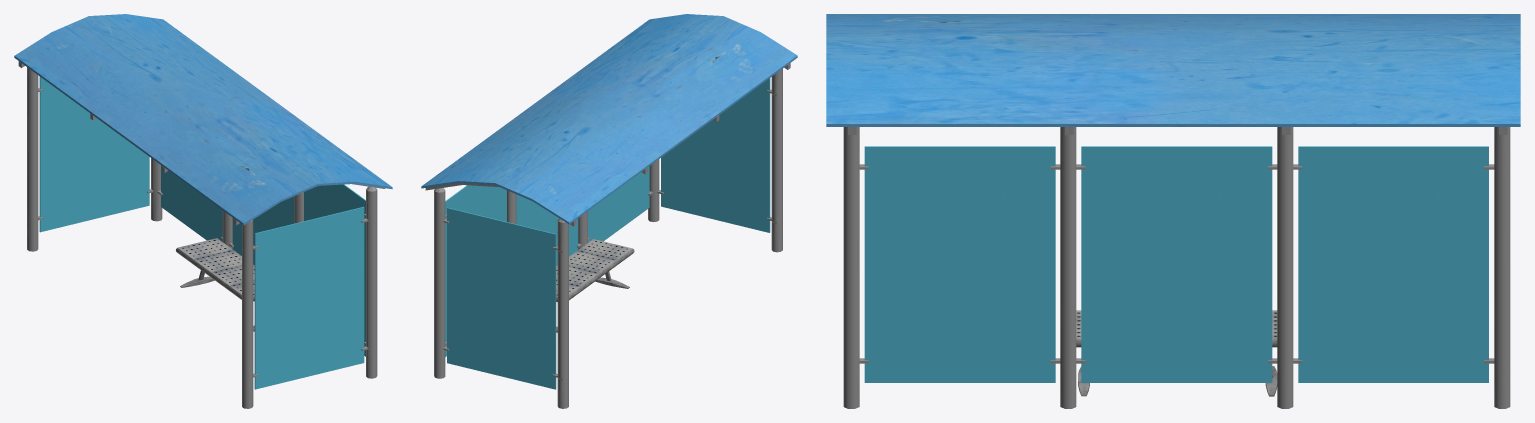
File: reliefPoint.glb
3 views of the same model, side by side, from view 1: azimuth 30°, elevation 25°; view 2: azimuth 150°, elevation 25°; view 3: azimuth 270°, elevation 25° (orthographic). The views are drawn at different scales.
Parts seen in each view (by area): view 1: node_id10; view 2: node_id10; view 3: node_id10.
Boxes of the visible parts, <box> form: node_id10: <box>14,14,392,408</box>; node_id10: <box>421,14,797,408</box>; node_id10: <box>826,14,1520,408</box>.
Size of the model in its own units: 0.3737 by 0.512 by 0.9959.
5 materials, 5 textured.
